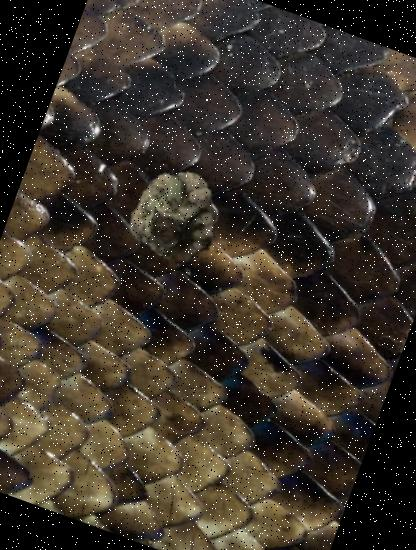Cauliflower: (120, 156, 239, 274)
